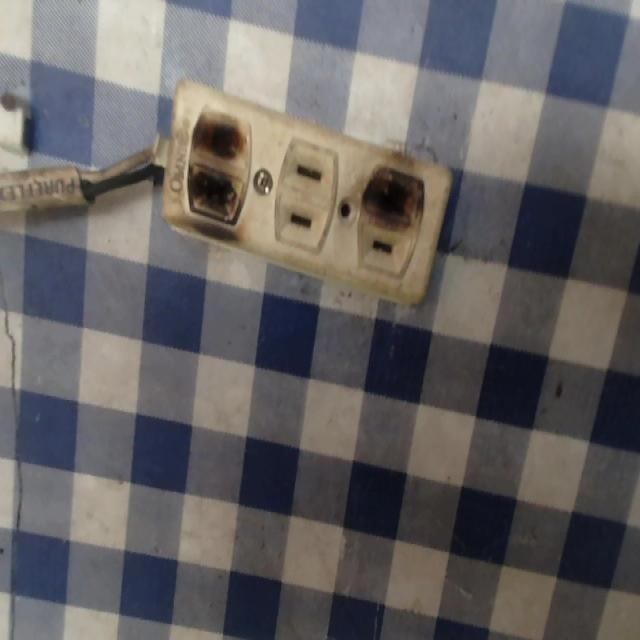-: (174, 93, 252, 240), (352, 160, 431, 235)
